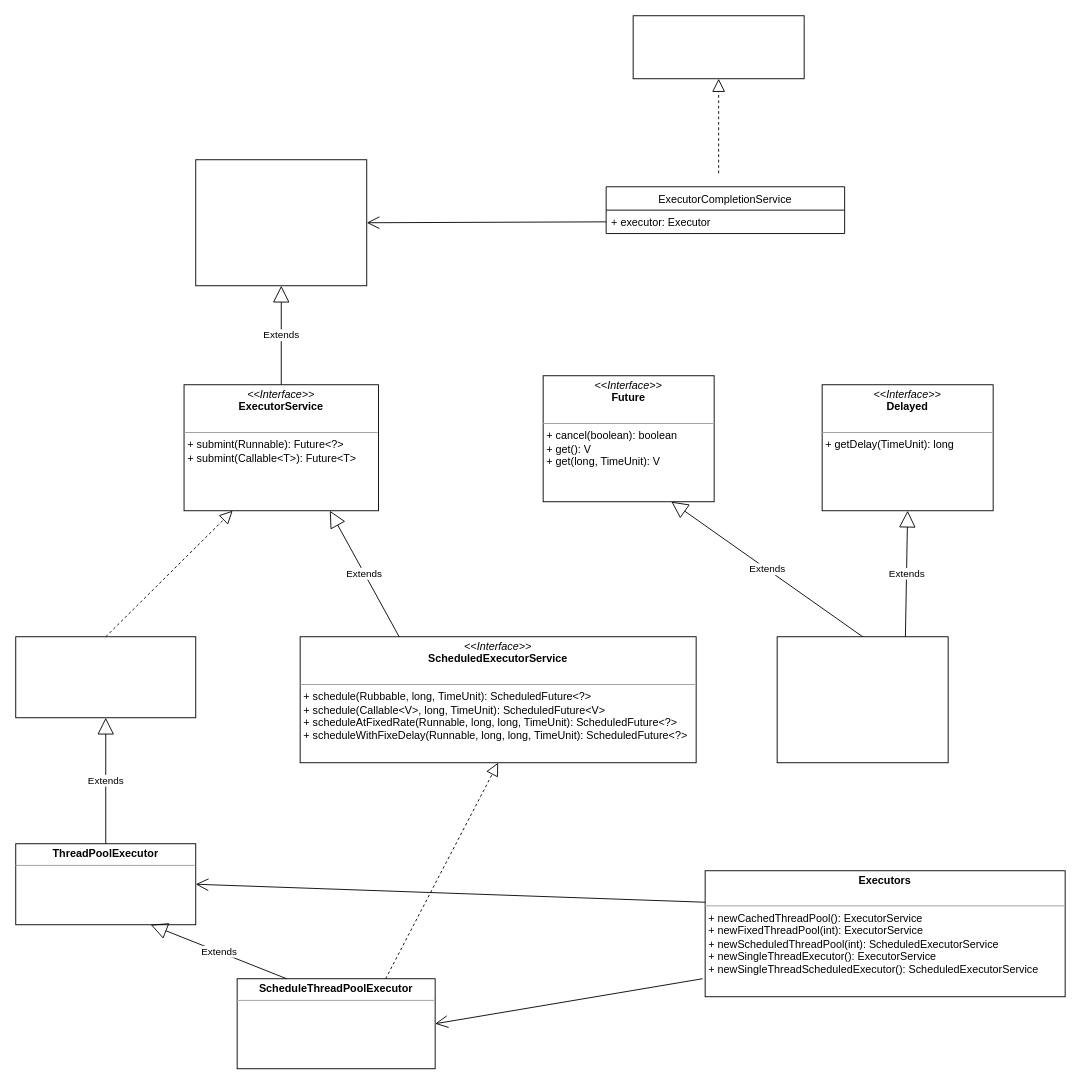
Image size: 1081x1085. Some labels were removed from this diagram. Here are the shapes that lost their labels. From the top down, the centre of each, then its label:
[718,47]: «interface» CompletionService
[281,222]: <<Interface>> Executor + execute(Runnable): void
[105,677]: AbstactExecutorService
[862,699]: <<Interface>> ScheduledFuture
